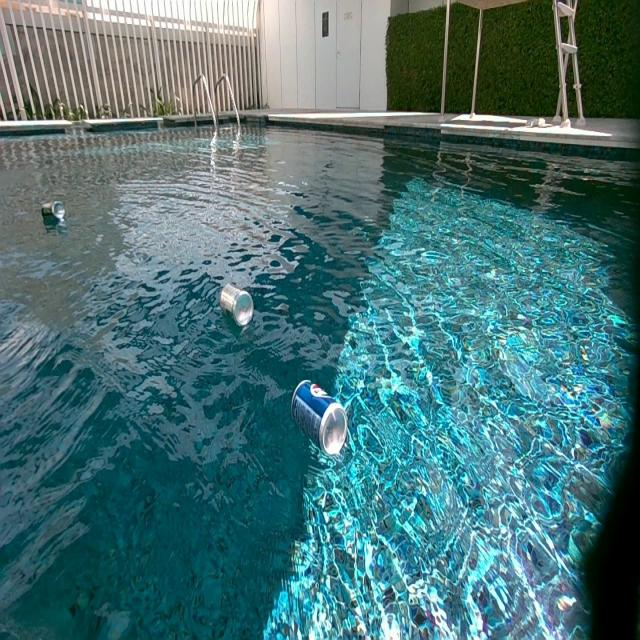Cans: (294, 379, 350, 458), (222, 286, 256, 330), (43, 202, 66, 223)
